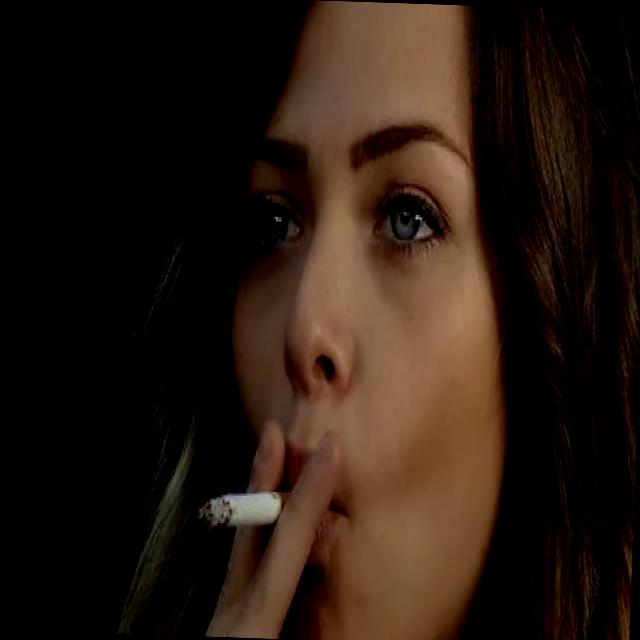smoke: (192, 474, 298, 544)
